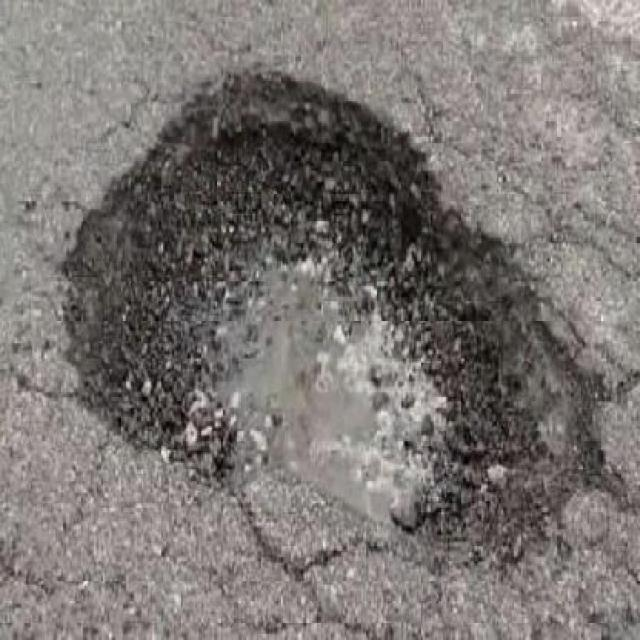pothole1: (55, 56, 614, 578)
